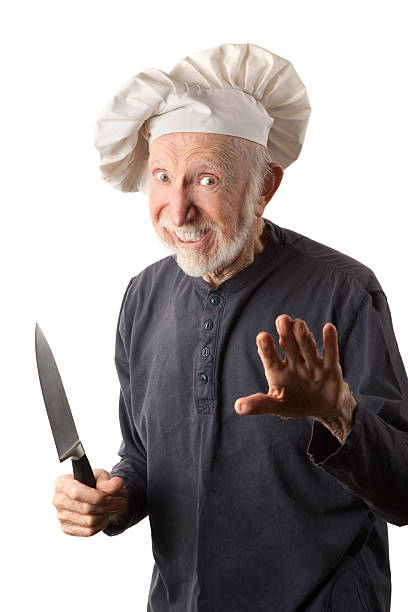knife: (35, 321, 98, 487)
